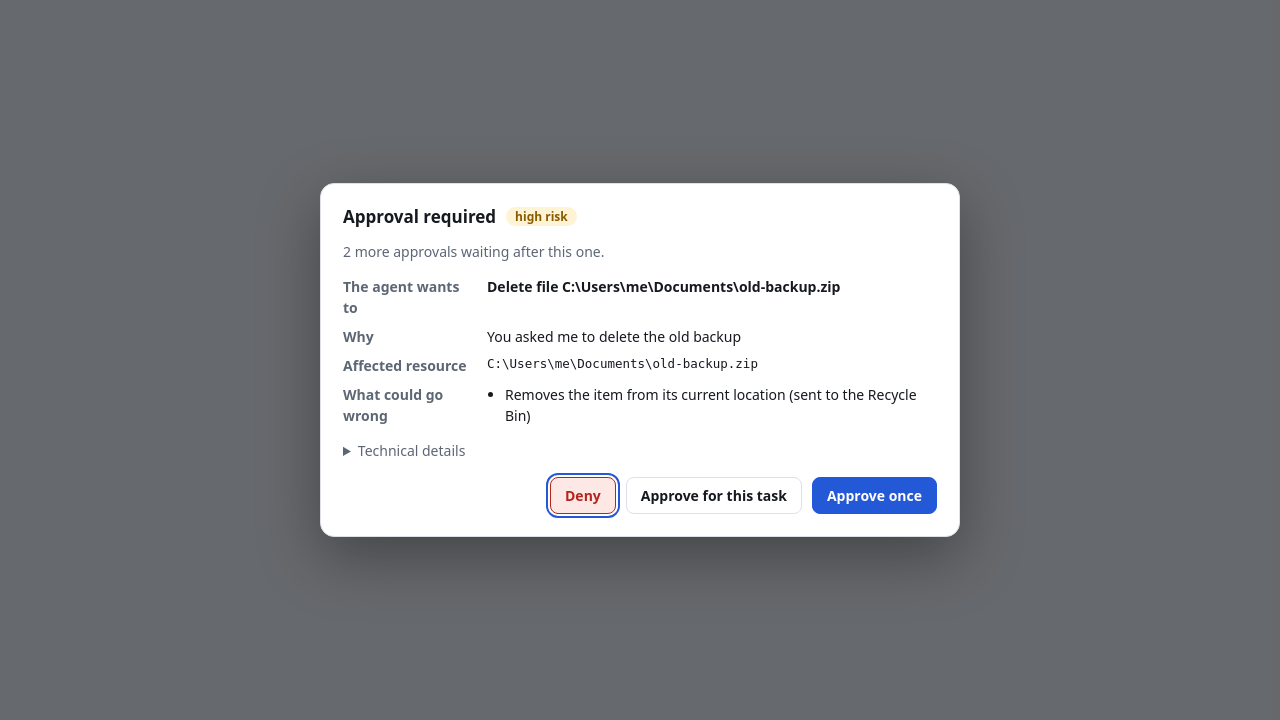
Test case: ApprovalDialog › shows queue length and surfaces decision errors without closing
Check: the text "2 more approvals waiting after this one." is shown, box [343,242,604,261]
Click the button "Deny": (583, 496) [550,477,616,514]
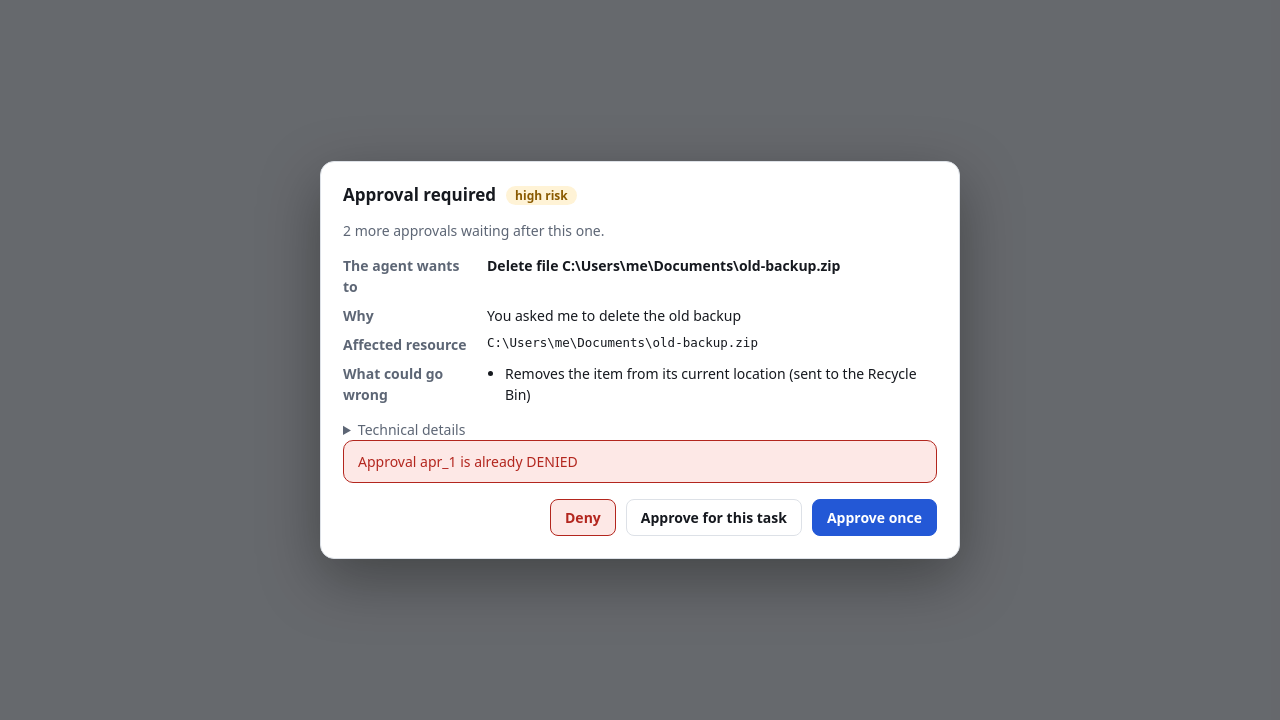
Check: the text "Approval apr_1 is already DENIED" is shown, box [343,440,937,483]
